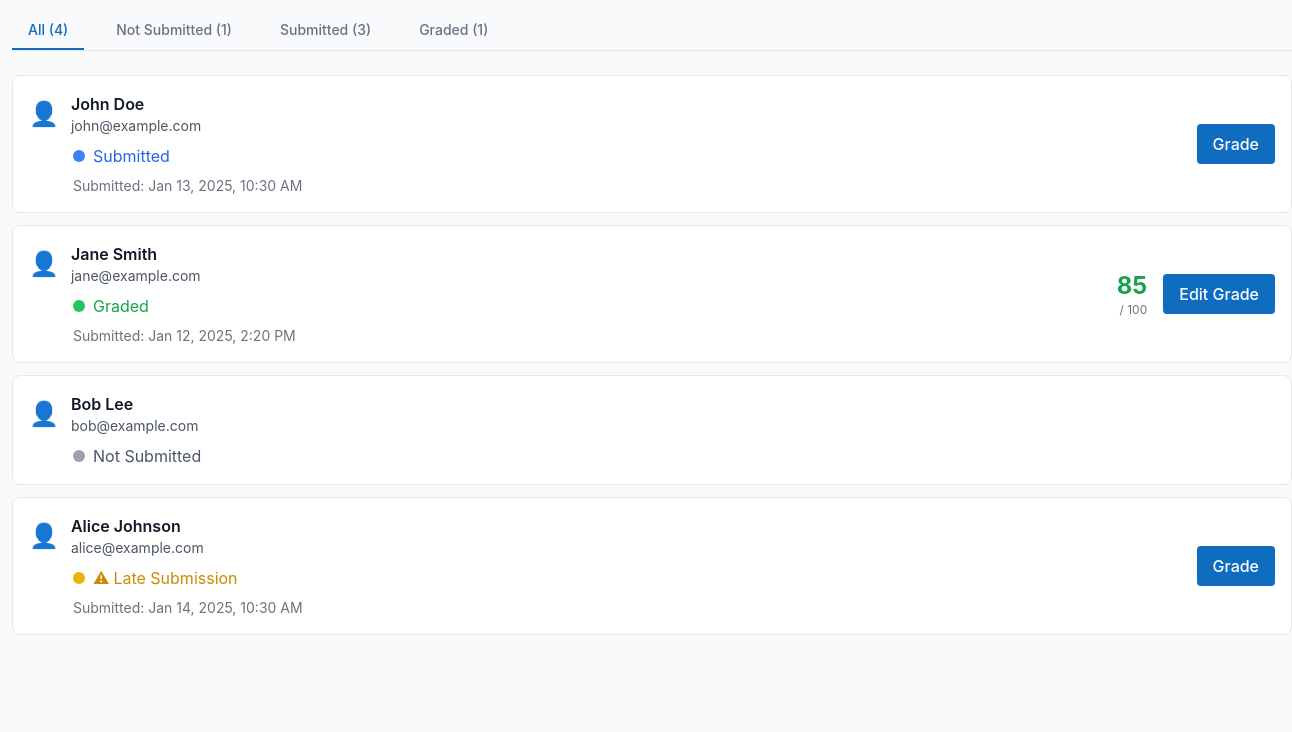
Test: SubmissionList › should filter submissions by "Graded" status
Click the button "Graded (1)" at coordinates (454, 31), box [403,12,504,50]
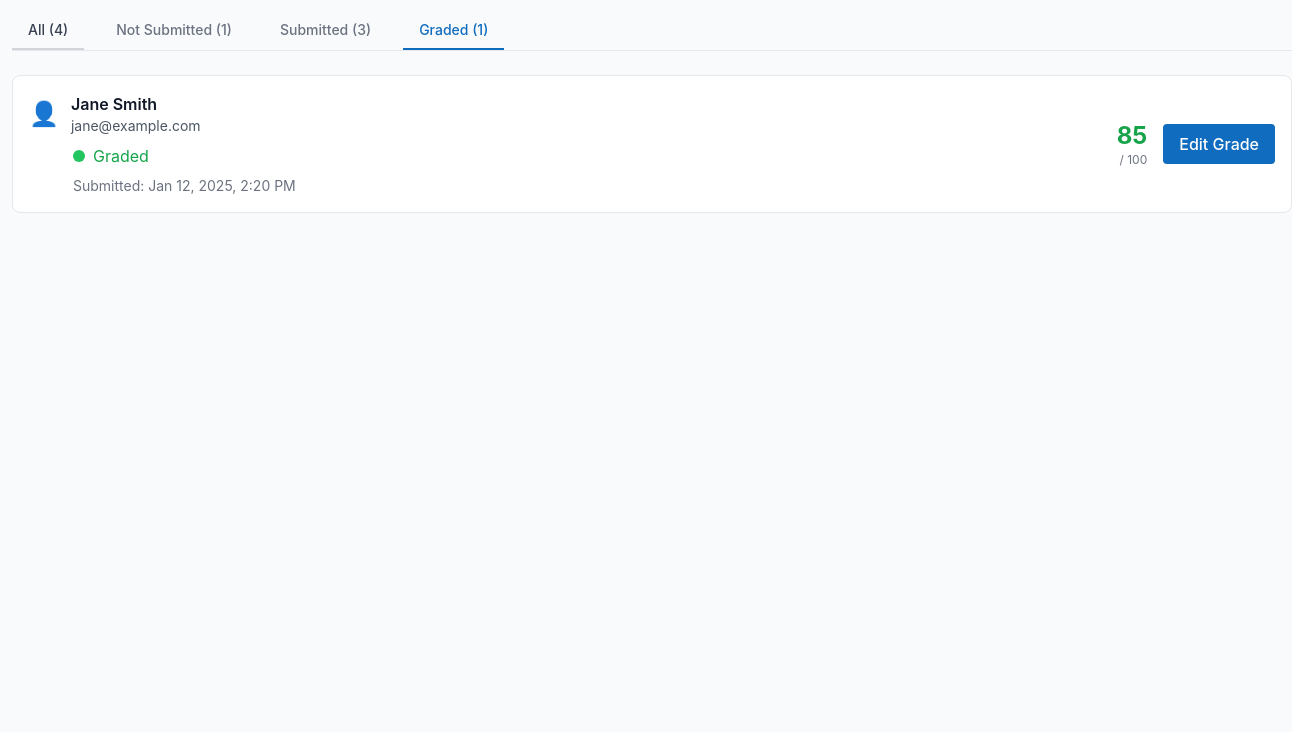
Expected: the heading "Jane Smith" is shown, [71,94,157,114]
Now the heading "John Doe" is gone
Now the heading "Bob Lee" is gone
